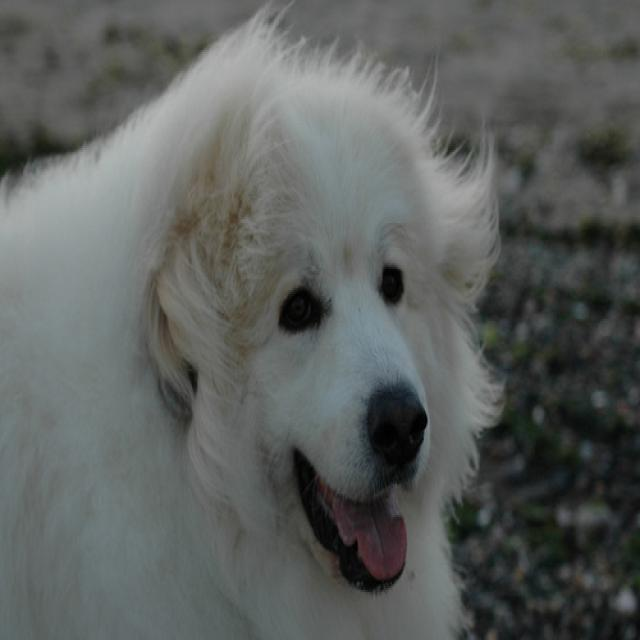dog: (137, 60, 461, 598)
